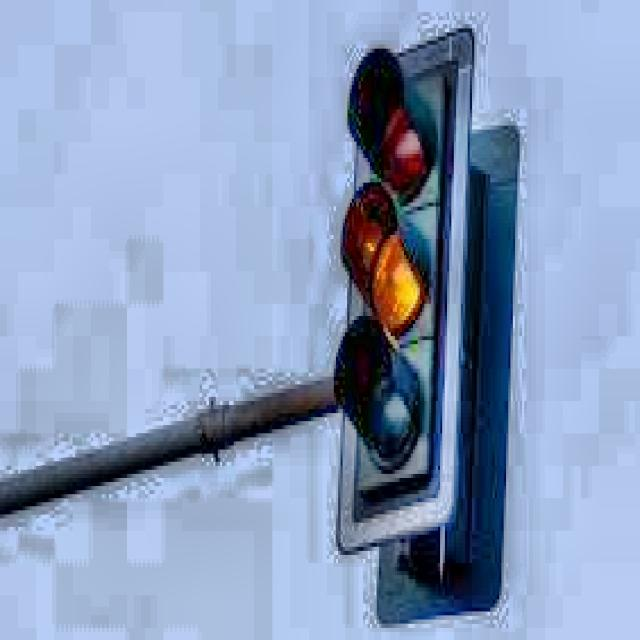yellow: (336, 39, 446, 505)
